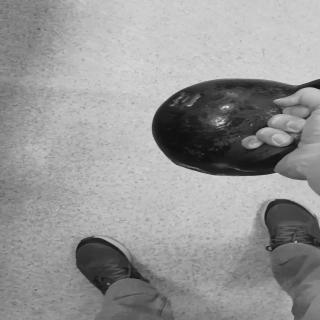kettlebell: (154, 79, 320, 176)
